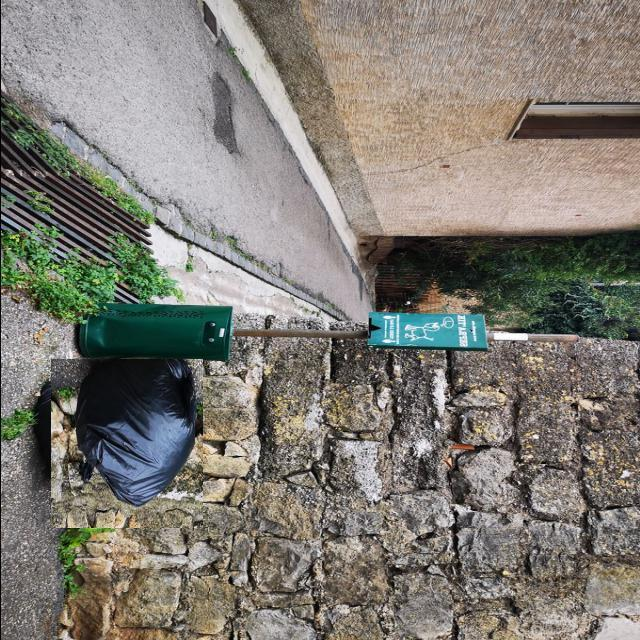Trashbag: (66, 345, 210, 517)
